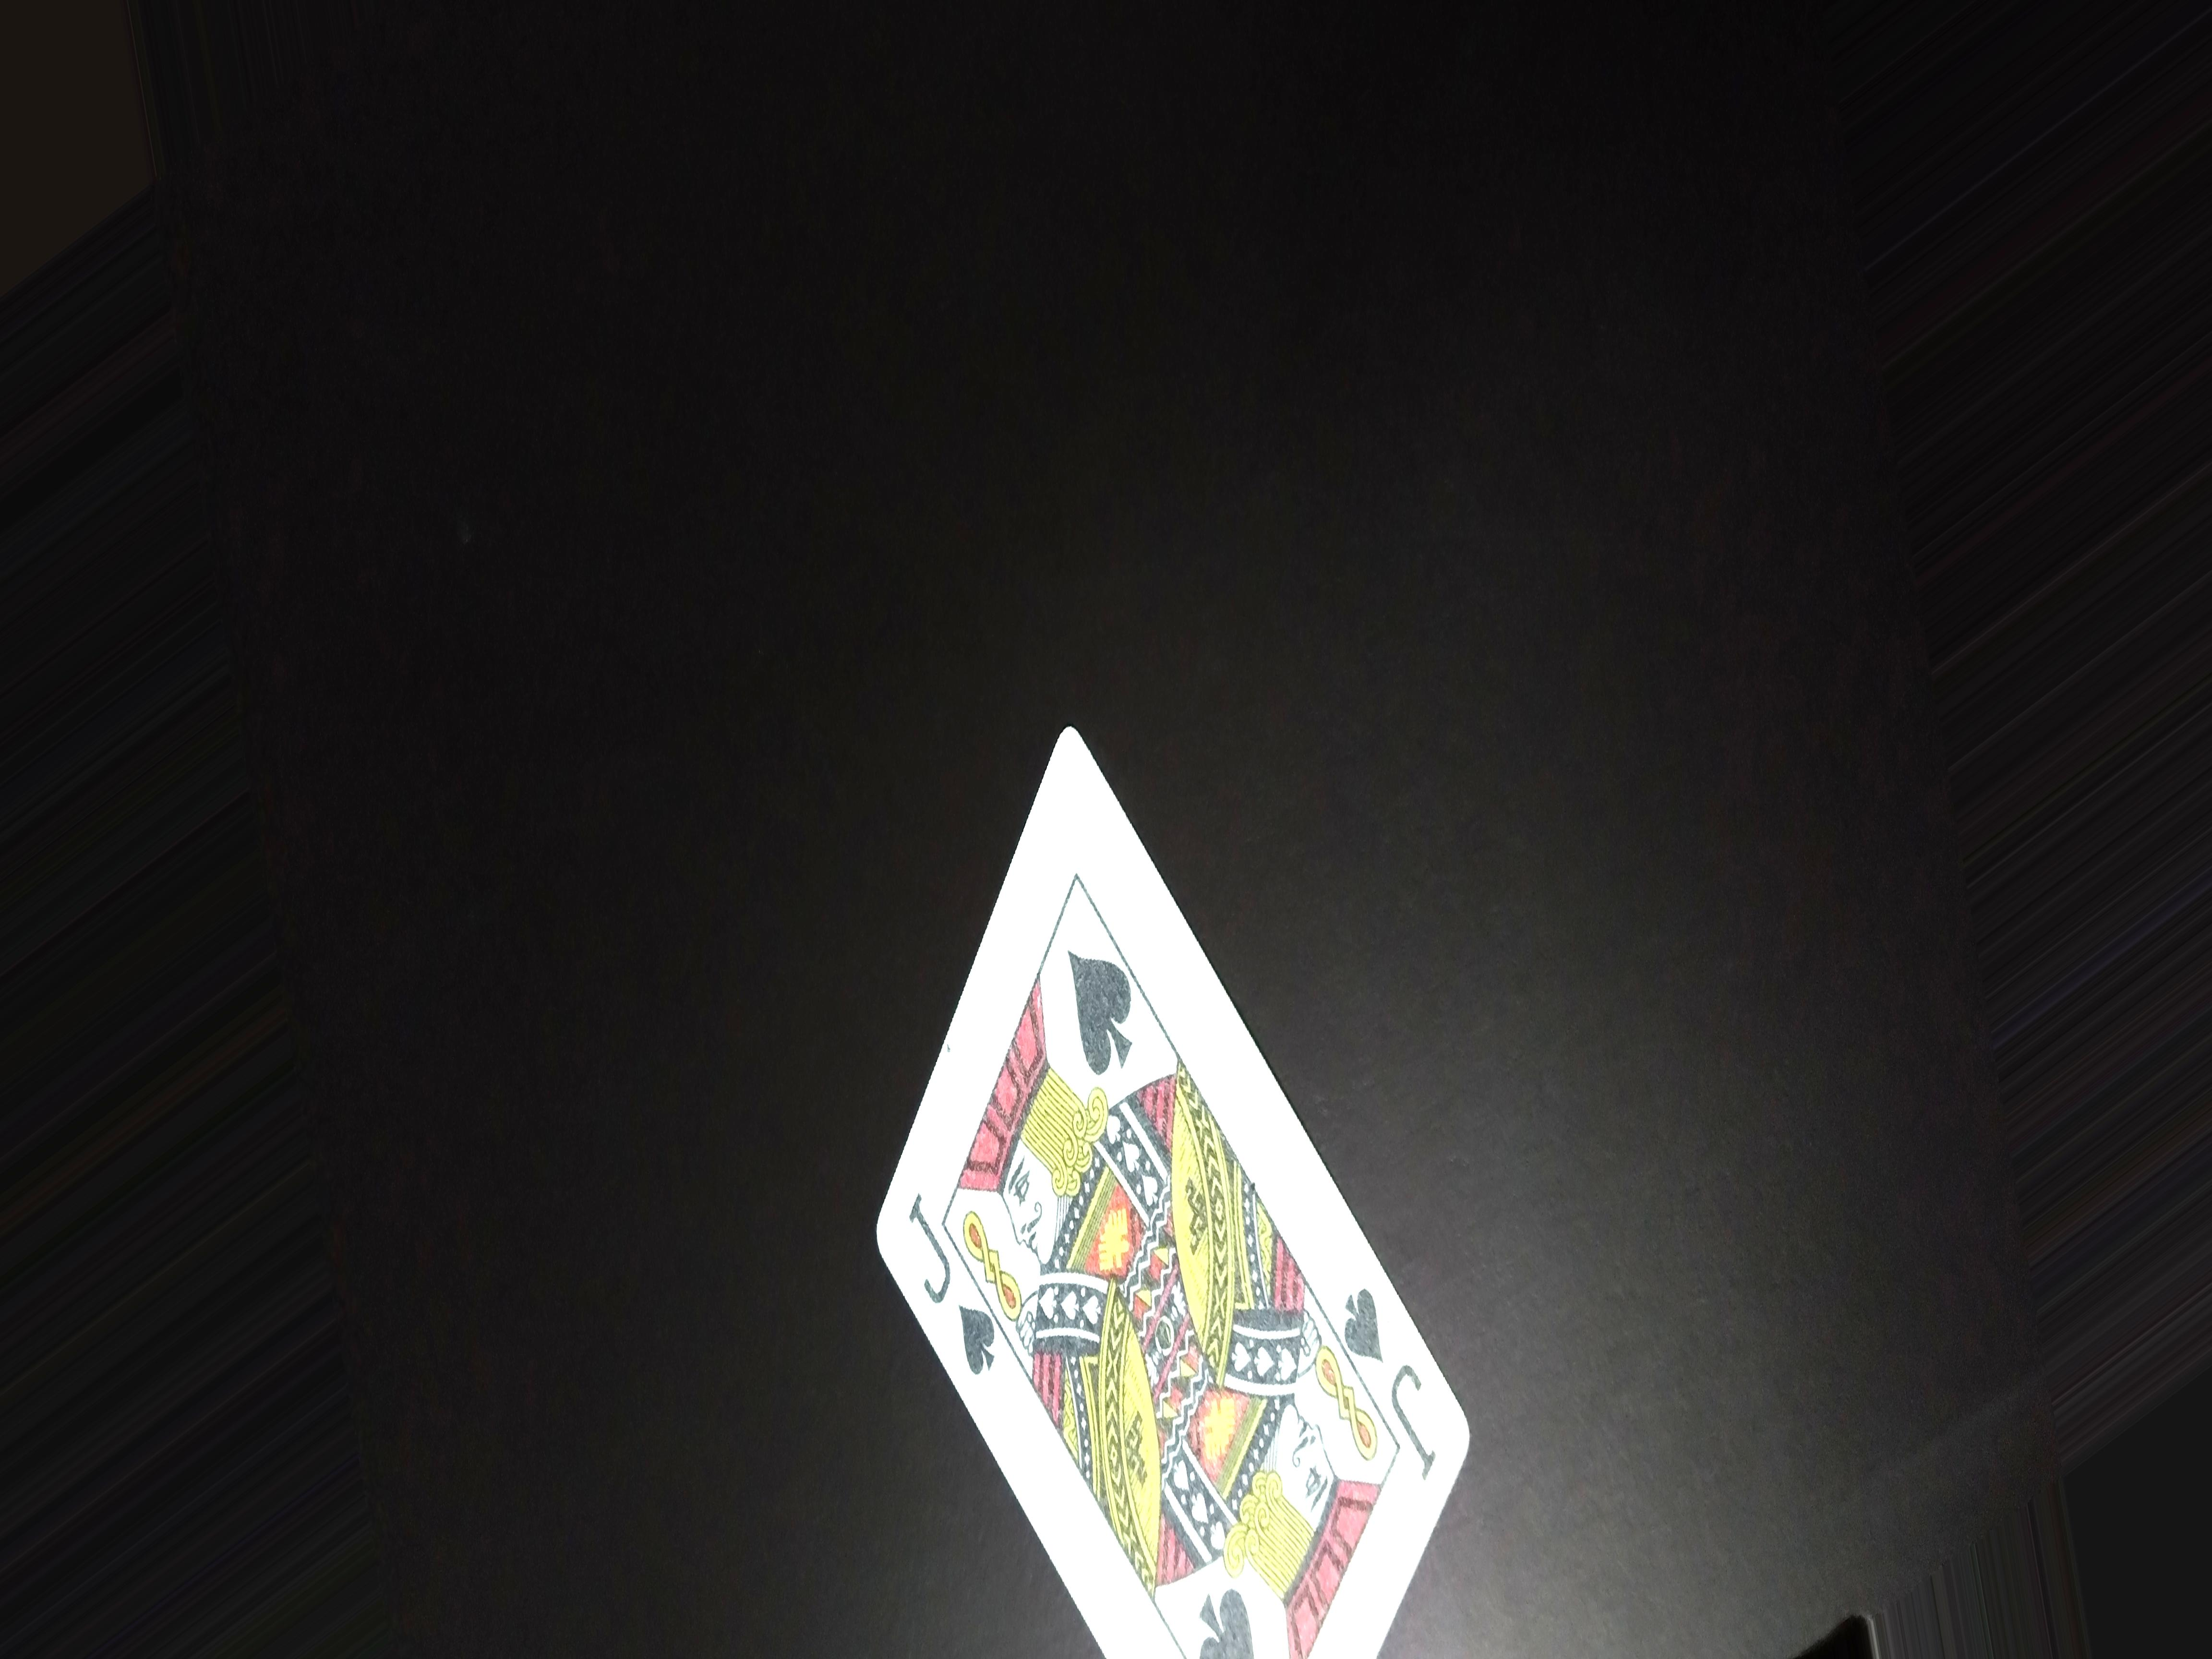JS: (892, 1182, 1005, 1385)
